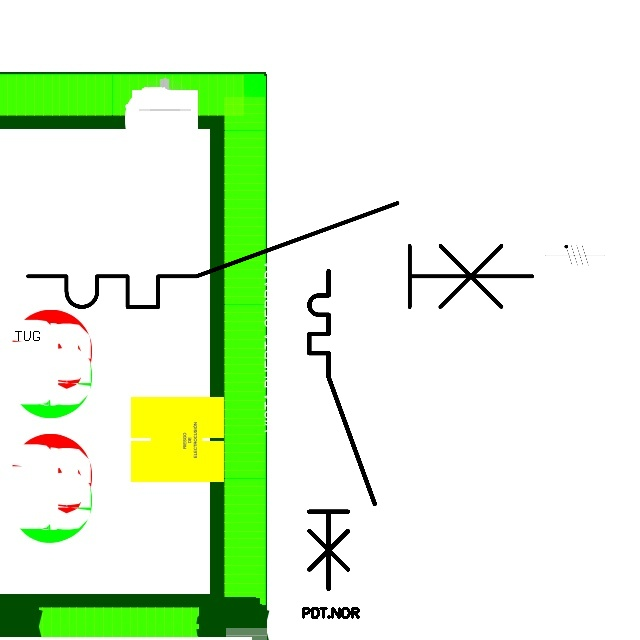interruptor_termomagnetico: (15, 190, 544, 320), (301, 263, 382, 597)
